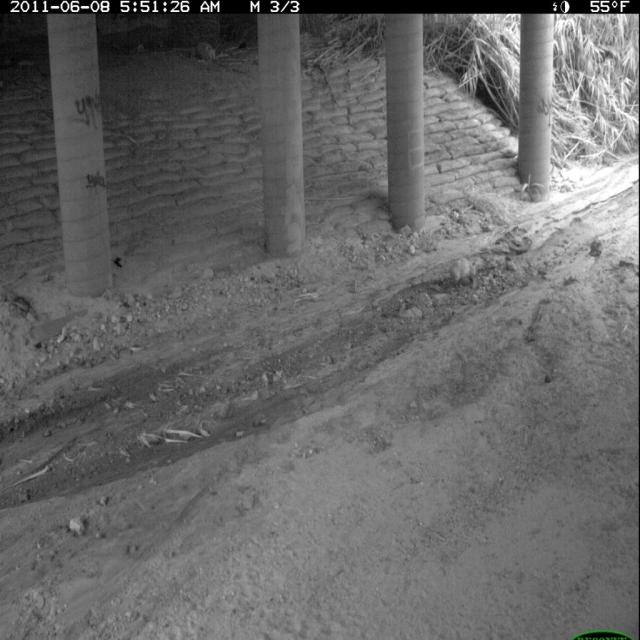opossum: (438, 252, 482, 292)
